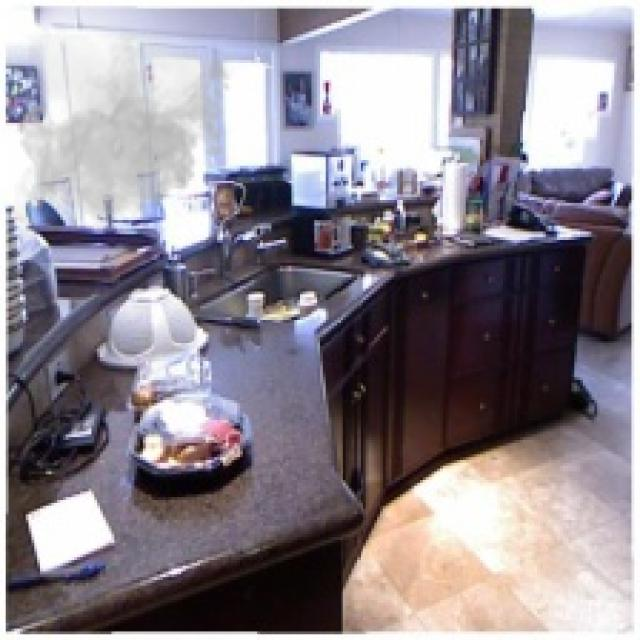smoke: (14, 34, 237, 234)
